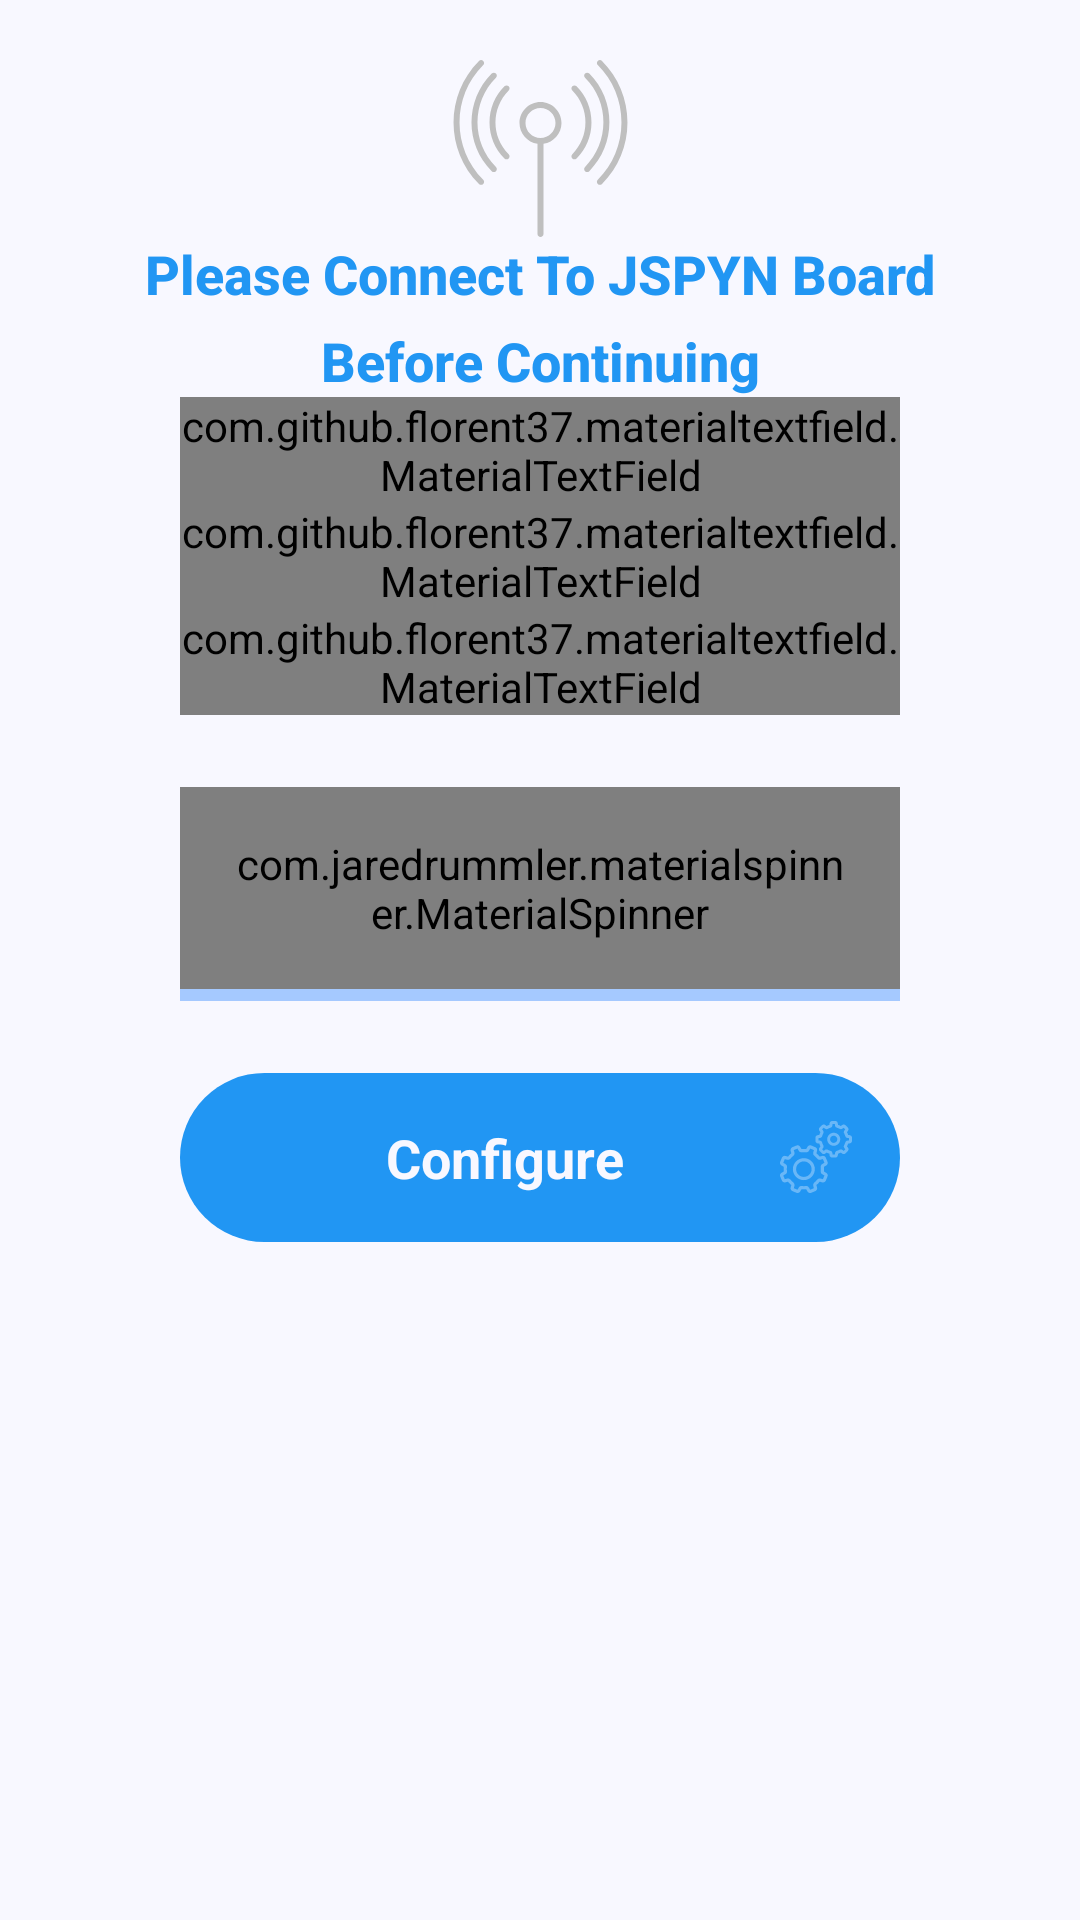

Where to tap for icons on this 1080×1920 app screen, as point (x, y):
wifi: point (540, 148)
